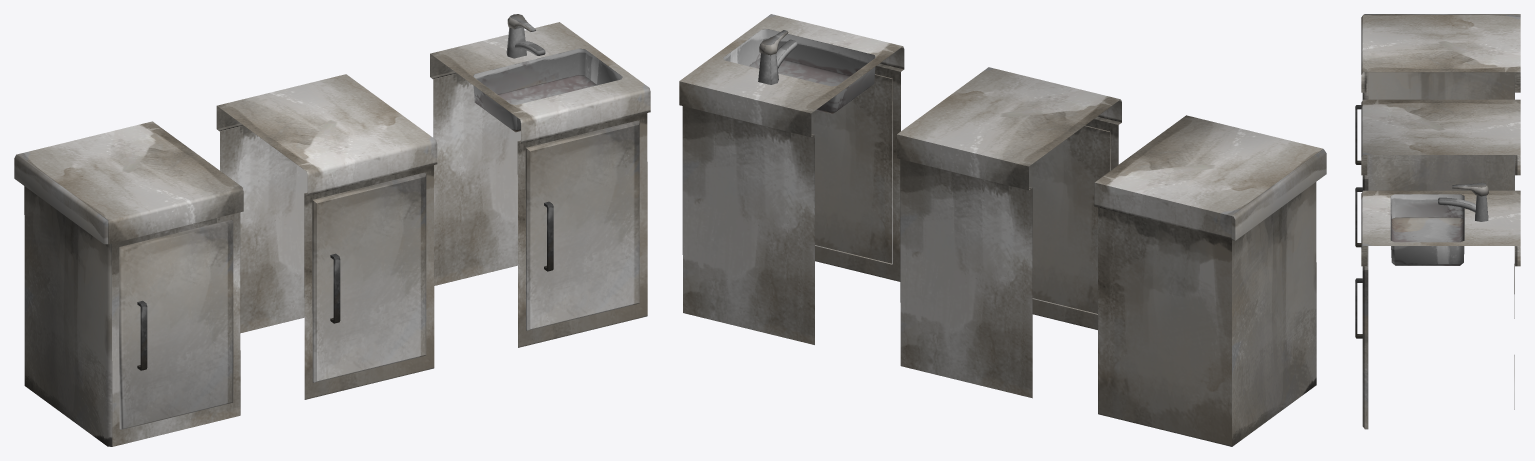
File: Counter_Asset.fbx
3 renders of one model, left to right at view 1: azimuth 30°, elevation 25°; view 2: azimuth 150°, elevation 25°; view 3: azimuth 270°, elevation 25°, orthographic. The views are drawn at different scales.
Visible parts, largest first — view 1: CounterCorner, CounterSink, CounterPart; view 2: CounterCorner, CounterSink, CounterPart; view 3: CounterCorner, CounterSink, CounterPart.
Part boxes in pixels (x1,y1,x2,y2): CounterCorner: (14,121,243,446); CounterSink: (430,14,650,347); CounterPart: (216,74,437,399); CounterCorner: (1094,115,1326,446); CounterSink: (679,14,904,344); CounterPart: (897,67,1121,398); CounterCorner: (1355,14,1520,190); CounterSink: (1355,182,1520,429); CounterPart: (1355,99,1520,318).
Size of the model in its own units: 207 by 62.27 by 97.15.
1 material, 1 textured.
